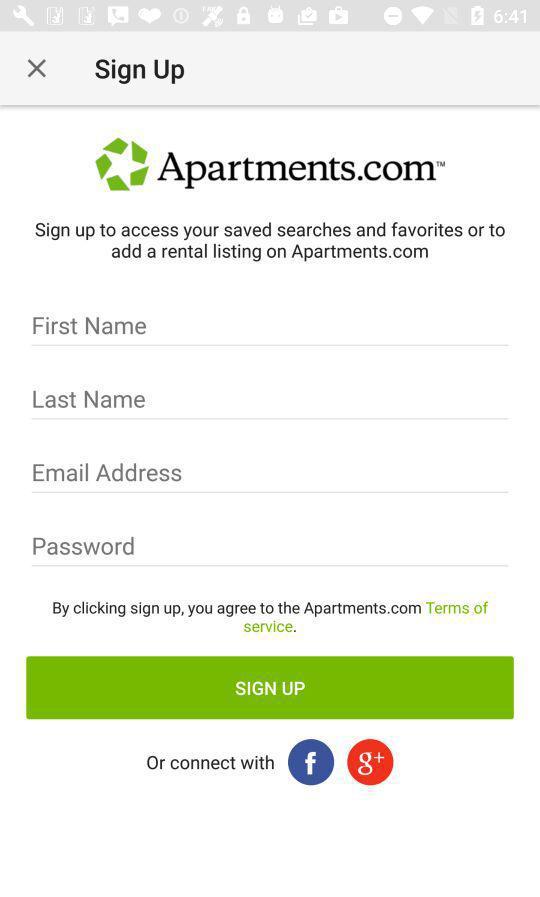EditText: (33, 462, 509, 494), (32, 536, 510, 567), (32, 390, 510, 421), (33, 317, 510, 347)
Icon: (288, 739, 335, 786), (347, 739, 393, 786), (29, 60, 48, 79)
Image: (96, 138, 446, 192)
Text: (36, 222, 506, 263), (53, 601, 489, 633), (33, 462, 183, 483), (95, 59, 185, 85), (33, 390, 146, 409), (34, 317, 148, 335), (147, 754, 275, 770), (34, 536, 136, 556)
TextButton: (26, 656, 514, 720)
Toolbar: (1, 33, 540, 106)
UpperTaskBar: (1, 1, 540, 33)
